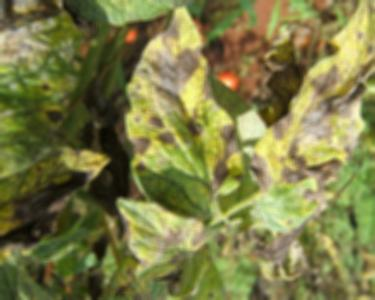Tomato Early blight leaf: (242, 6, 375, 229), (134, 7, 241, 218), (4, 144, 117, 257), (118, 204, 211, 282)
